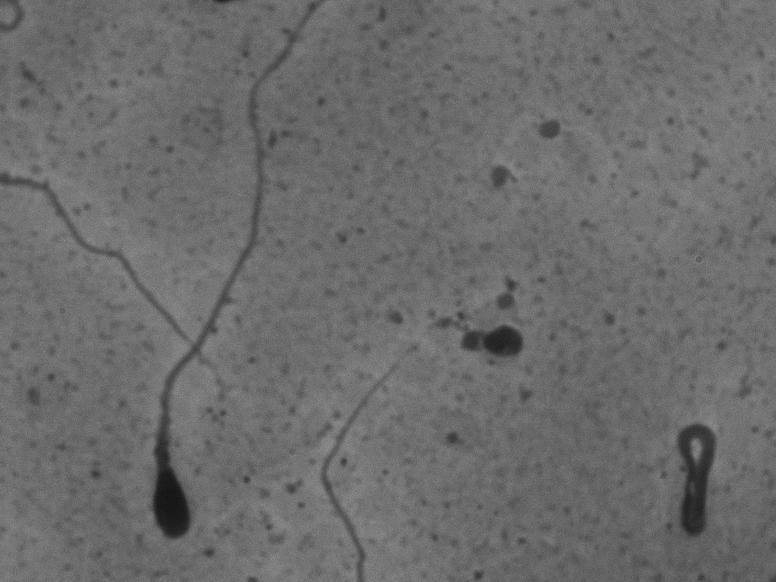Abnormal: (123, 12, 312, 550)
